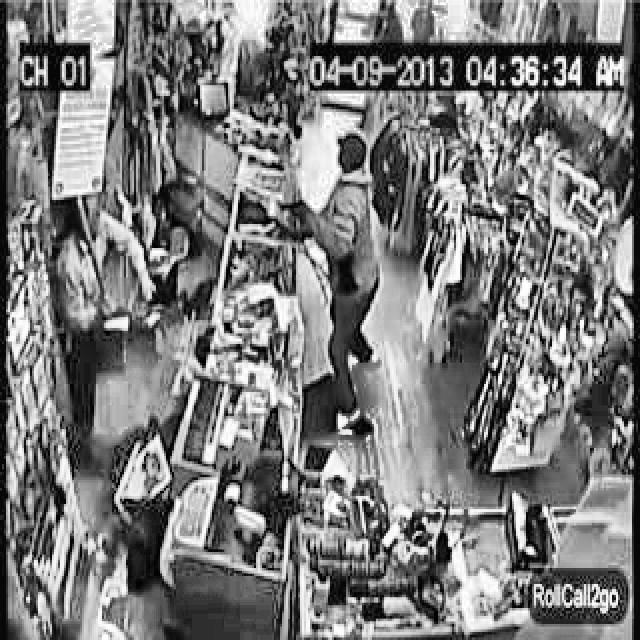robbery: (273, 128, 383, 438), (63, 192, 157, 329)
